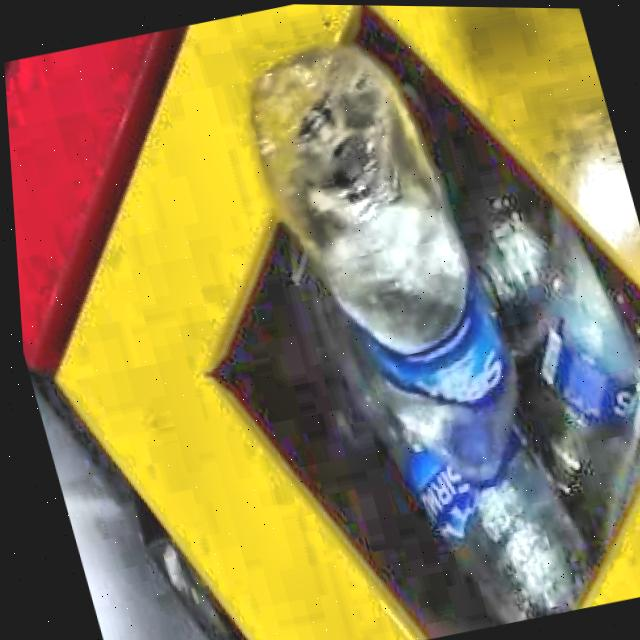plastic: (249, 40, 512, 482)
